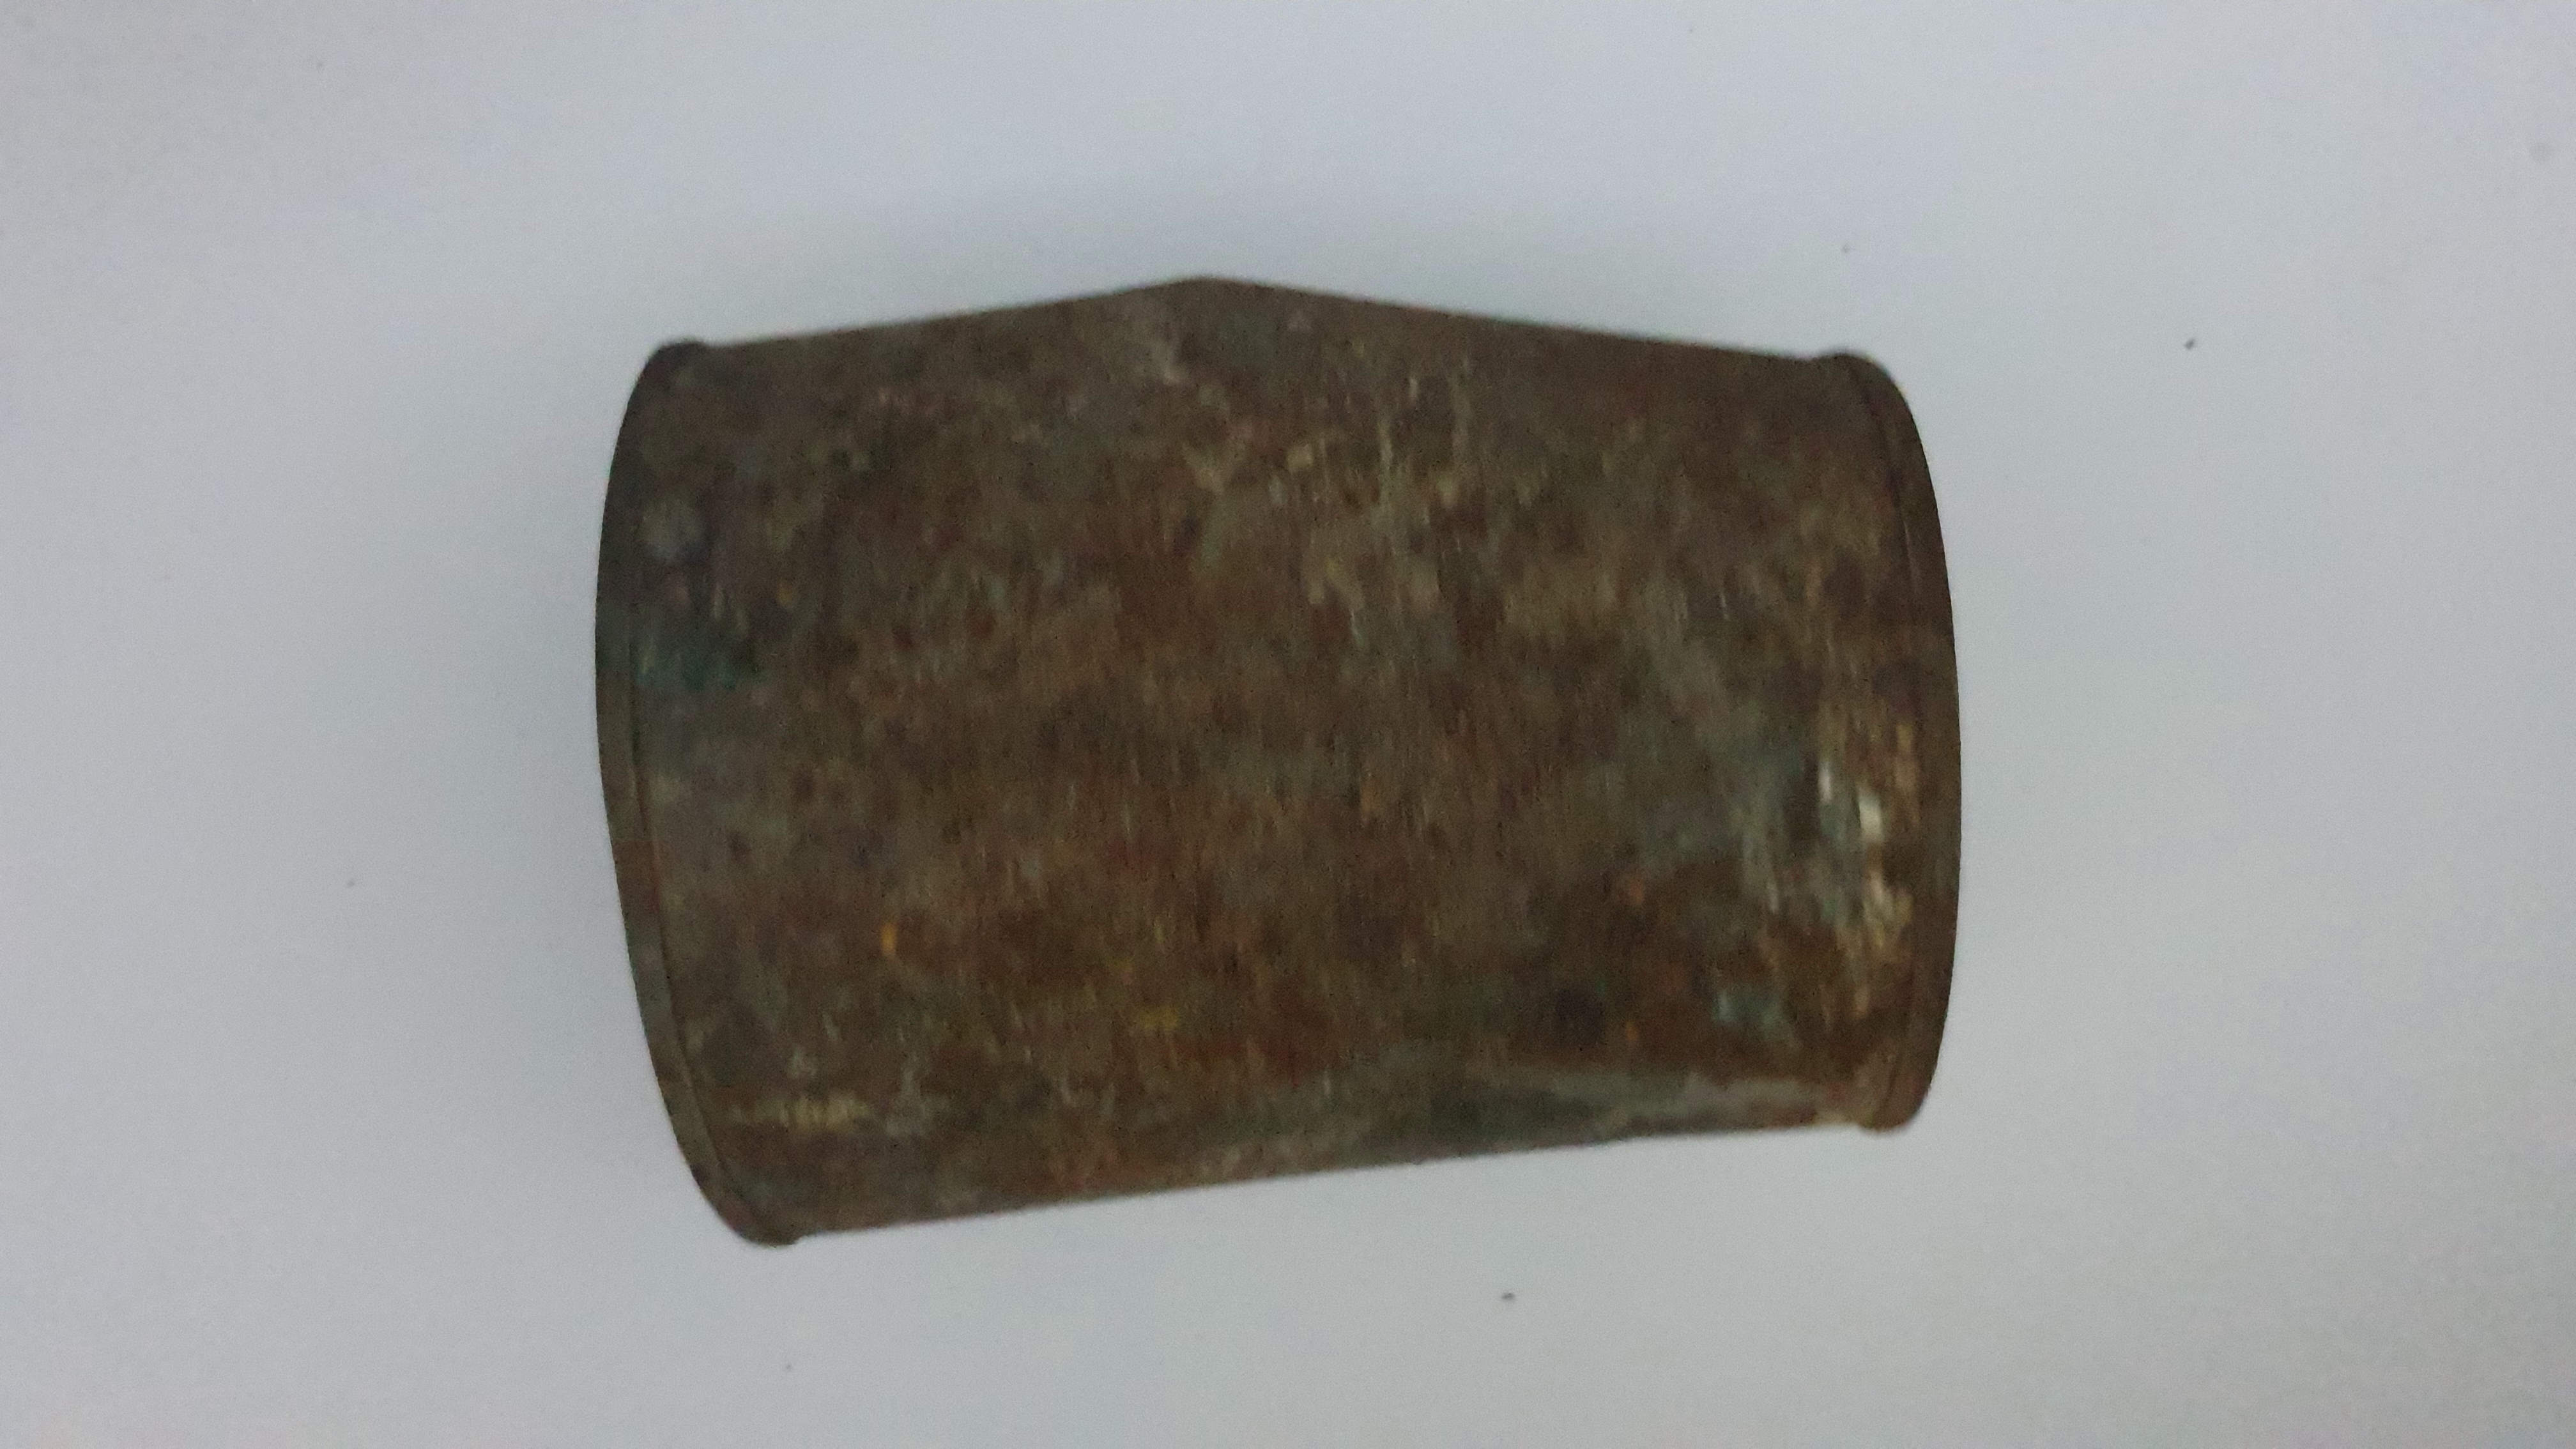metal: (587, 239, 1996, 1265)
